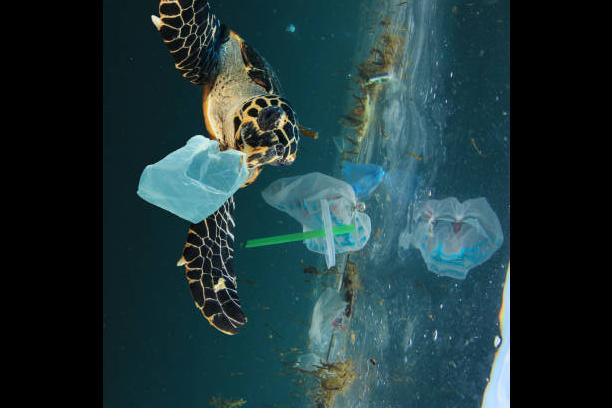Non_Gorille: (131, 0, 373, 382)
